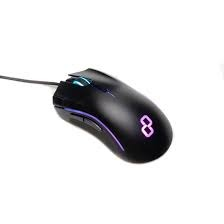mouse: (44, 63, 177, 168)
